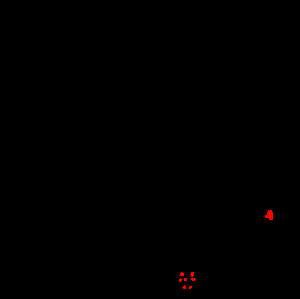Target: (265, 210, 273, 220), (190, 272, 194, 277), (180, 272, 184, 276), (182, 285, 186, 289), (191, 278, 196, 281), (179, 278, 182, 282), (184, 278, 187, 281), (189, 286, 192, 289)
